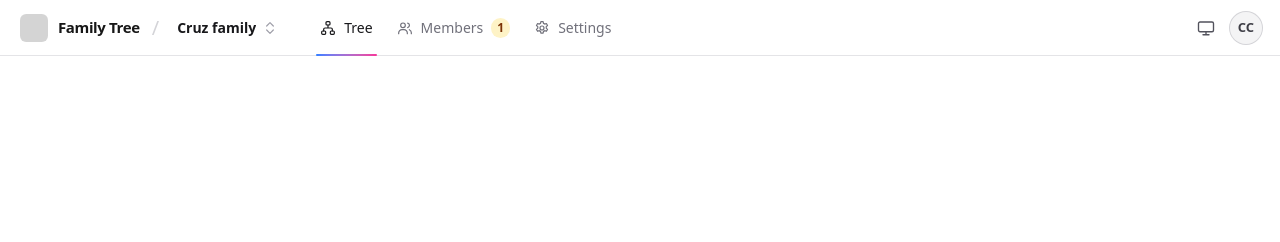
Test: the app's header (the production look) › on phones the account menu holds the group's pages (with the requests' count) and the theme
The width and height of the screenshot is (1280, 242).
Click the button named "Carla Cruz".
click(1246, 28)  # box [1228,10,1264,46]
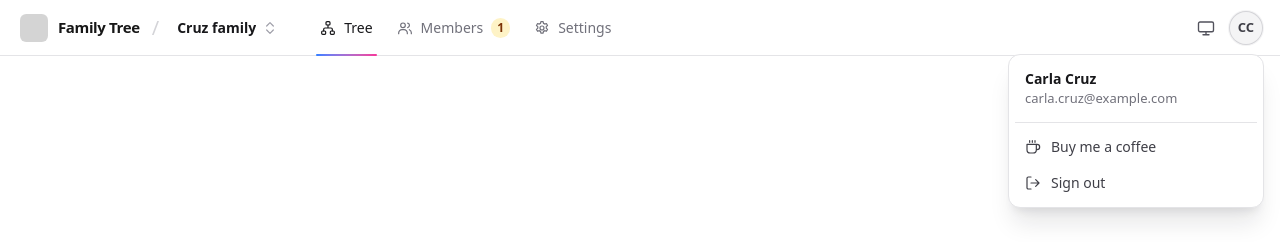
Expected: the text "carla.cruz@example.com" is shown, [1025,88,1177,106]
